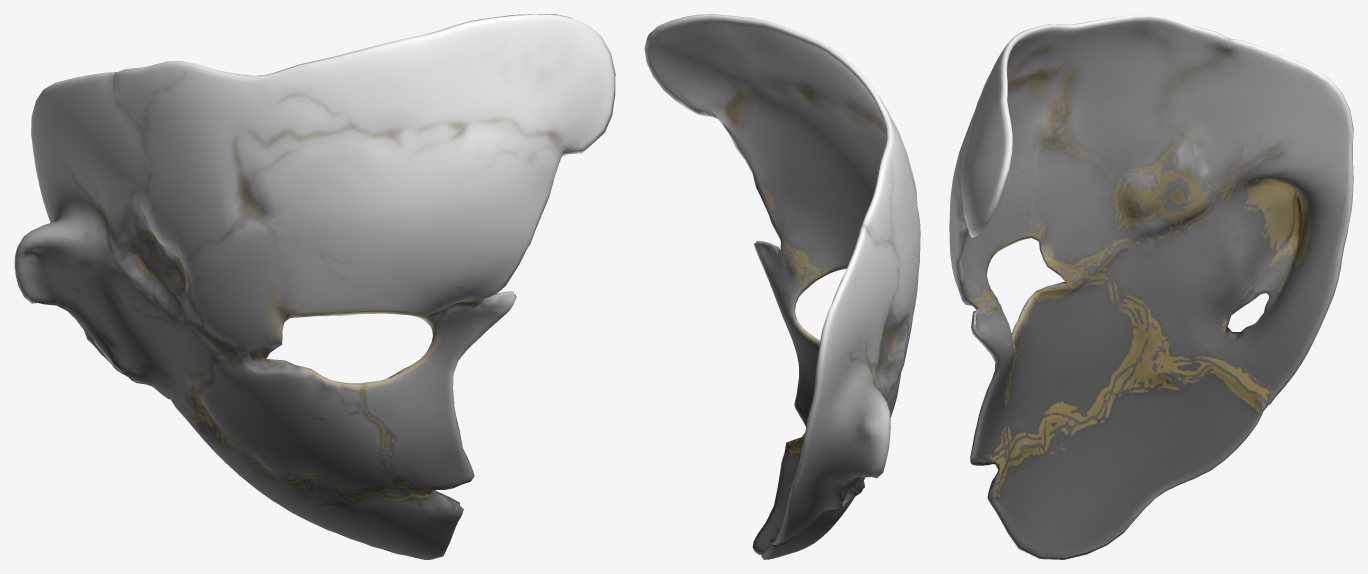
The model's file is Retopo_tiqu-low.002.glb.
3 views of the same model, side by side, from view 1: azimuth 30°, elevation 25°; view 2: azimuth 150°, elevation 25°; view 3: azimuth 270°, elevation 25° (orthographic). The views are drawn at different scales.
Visible parts, largest first — view 1: Retopo_tiqu-low.002; view 2: Retopo_tiqu-low.002; view 3: Retopo_tiqu-low.002.
Boxes of the visible parts, bbox=[...] form: Retopo_tiqu-low.002: bbox=[14, 14, 615, 559]; Retopo_tiqu-low.002: bbox=[644, 14, 920, 559]; Retopo_tiqu-low.002: bbox=[949, 14, 1353, 559].
Size of the model in its own units: 0.1917 by 0.2313 by 0.1677.
1 material, 1 textured.
